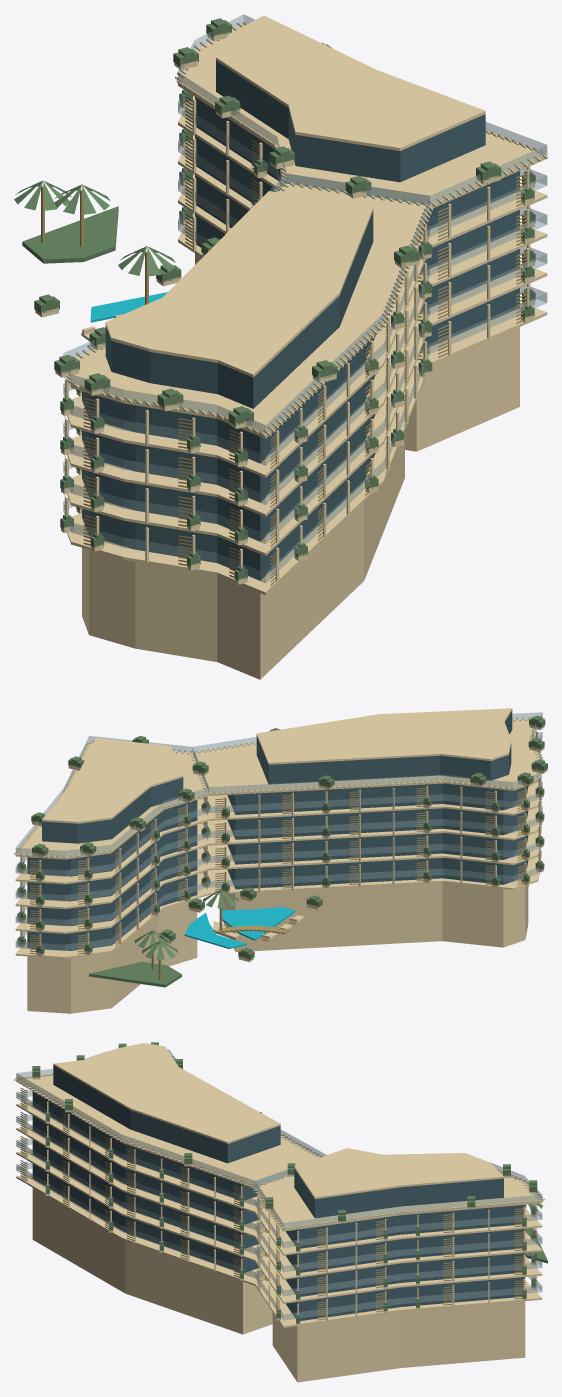
File: creekville-10.glb
3 views of the same model, one above another, from view 1: azimuth 30°, elevation 25°; view 2: azimuth 150°, elevation 25°; view 3: azimuth 270°, elevation 25° (orthographic). The views are drawn at different scales.
Visible parts, largest first — view 1: Suedfluegel, Ostfluegel, Pool, Bruecke und Garten; view 2: Suedfluegel, Ostfluegel, Pool, Bruecke und Garten; view 3: Ostfluegel, Suedfluegel.
Part boxes in pixels (x1,y1,x2,y2): Suedfluegel: (54,174,433,679); Ostfluegel: (173,14,547,451); Pool, Bruecke und Garten: (14,180,181,349); Suedfluegel: (191,708,547,952); Ostfluegel: (14,736,209,1013); Pool, Bruecke und Garten: (89,887,322,987); Ostfluegel: (252,1148,544,1382); Suedfluegel: (14,1042,326,1334).
Bounding box in the file's own units: 51.66 × 24.15 × 65.24.
